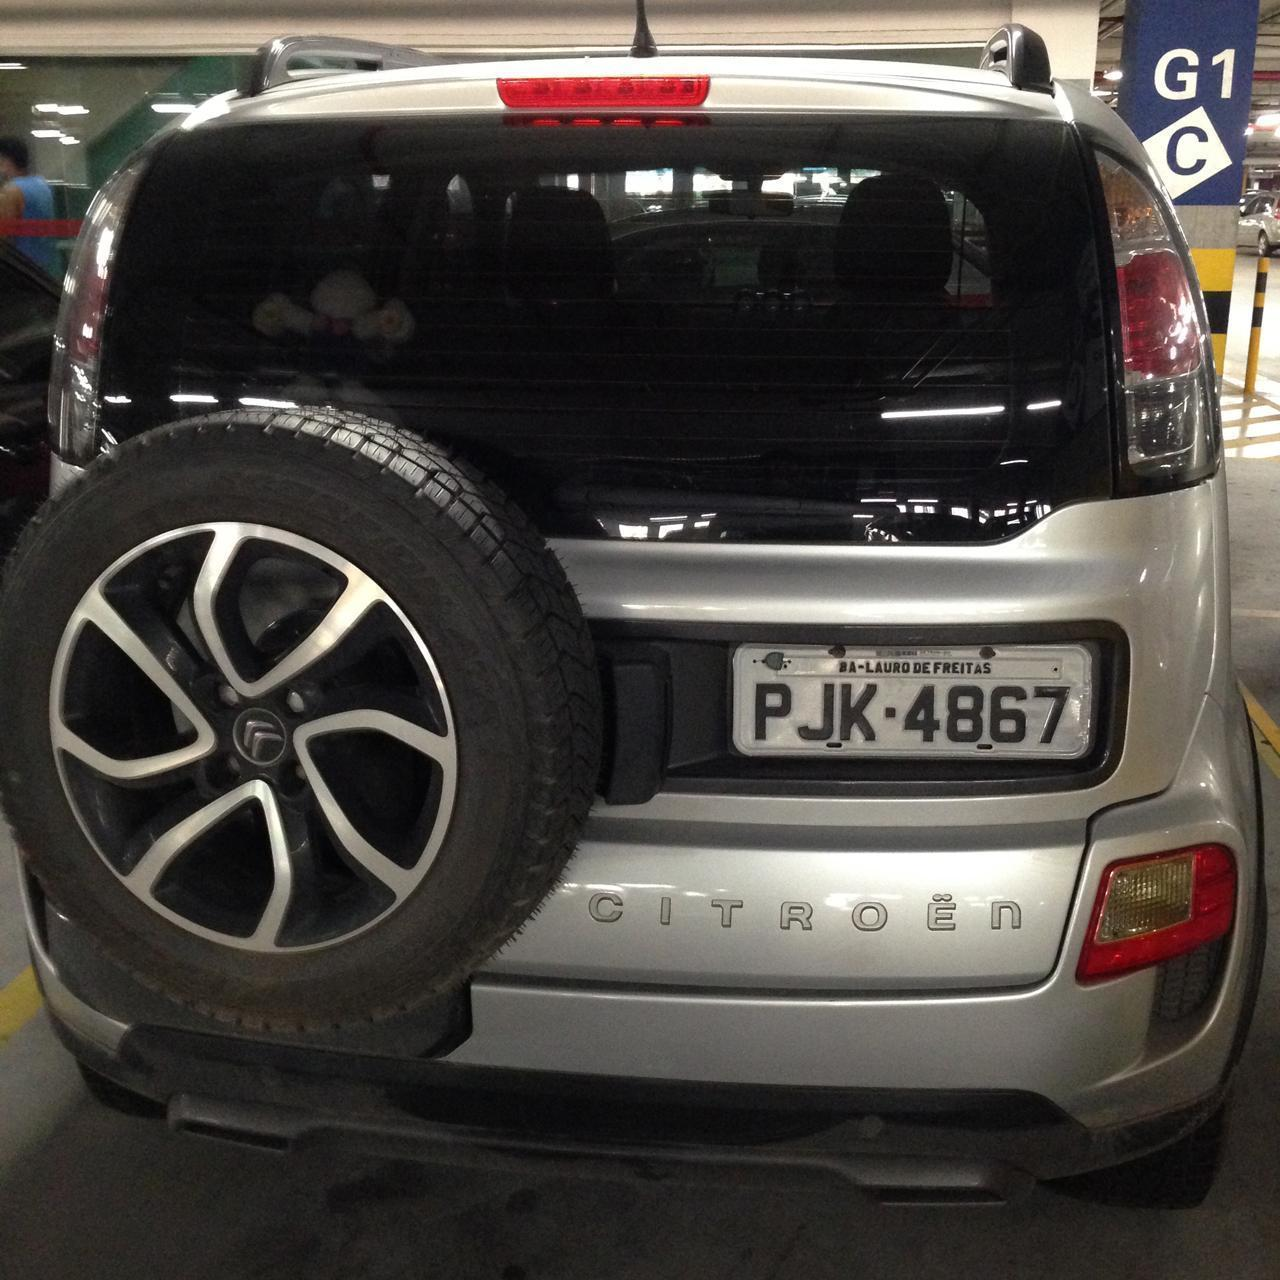placa de veiculo: (721, 624, 1109, 775)
